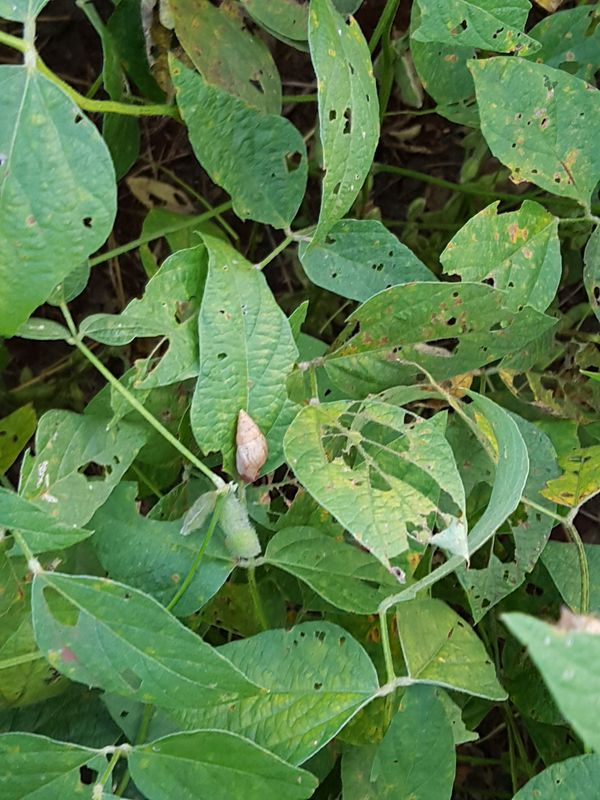Gastropoda: (219, 404, 277, 487)
